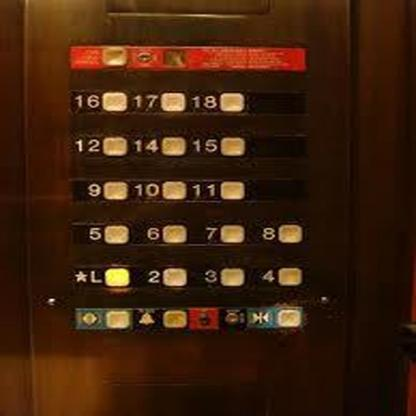10: (131, 179, 190, 202)
11: (189, 179, 247, 201)
12: (68, 134, 130, 158)
14: (130, 132, 188, 156)
15: (189, 134, 248, 158)
16: (66, 88, 129, 112)
17: (129, 88, 189, 115)
18: (189, 88, 249, 114)
2: (138, 265, 188, 289)
3: (192, 265, 244, 288)
4: (248, 265, 303, 287)
5: (74, 223, 132, 246)
6: (135, 221, 190, 245)
7: (199, 222, 246, 246)
8: (252, 222, 310, 245)
9: (74, 178, 129, 202)
alarm: (133, 306, 187, 329)
bt_keyhole: (128, 44, 192, 69)
close: (247, 305, 304, 330)
keyhole: (188, 308, 218, 330), (219, 308, 246, 327)
open: (74, 307, 132, 331)
sL: (71, 264, 132, 290)
text_blur: (67, 44, 130, 69)
